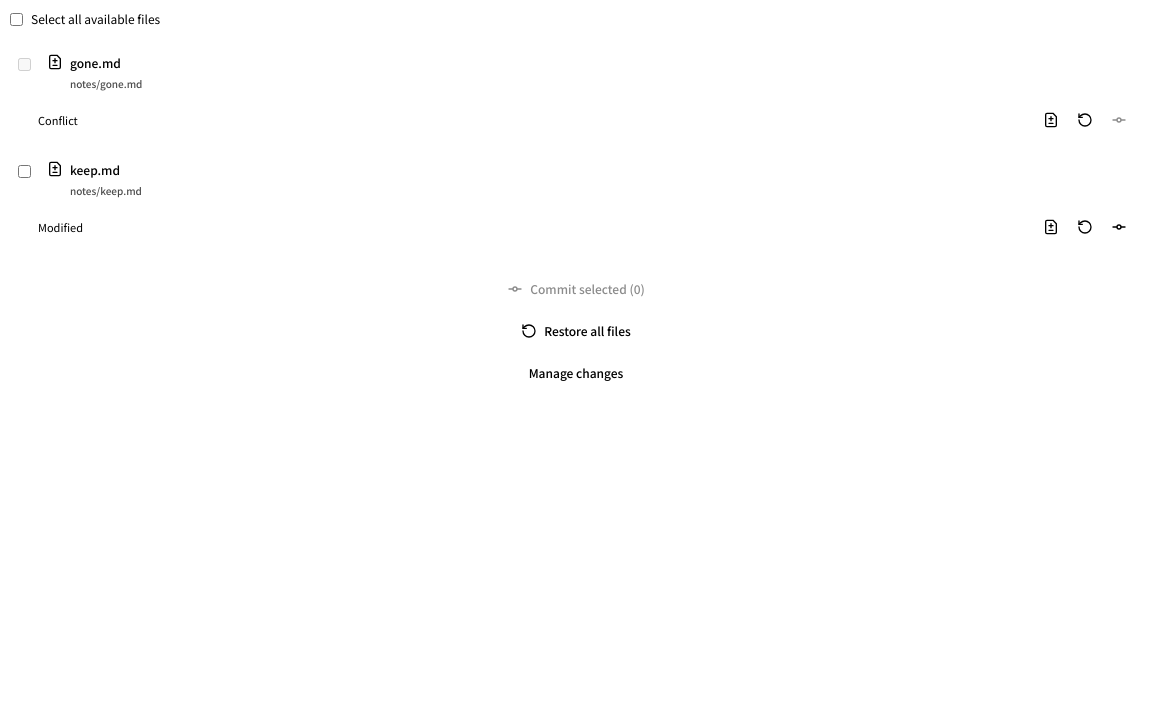
Scenario: A remote change the repository refuses, in the Changes rail › shows the draft it would throw away instead of only the reason it is refused
Click the button titled "notes/gone.md" at (95, 62), box [39,48,1134,99]
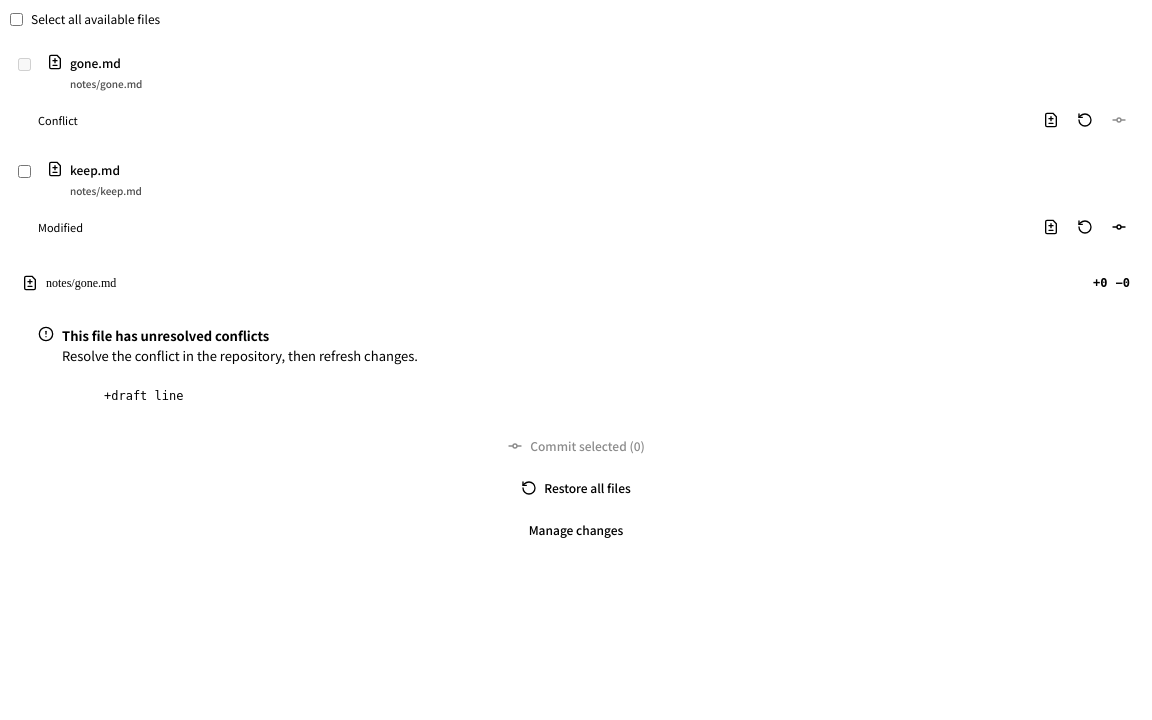
Expected: the text "+draft line" is shown, [104,389,184,403]
